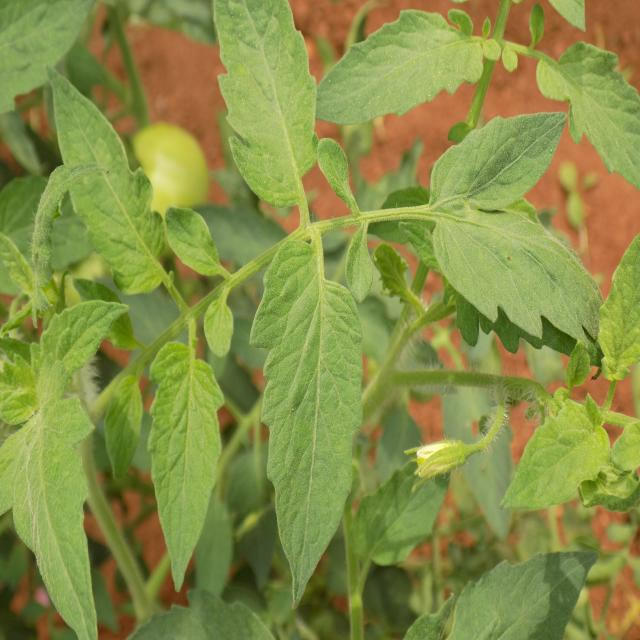tomato_healthy: (247, 225, 364, 602), (46, 54, 171, 300), (1, 391, 100, 640), (432, 214, 610, 340), (310, 9, 487, 128), (149, 340, 226, 589), (428, 108, 568, 215)
